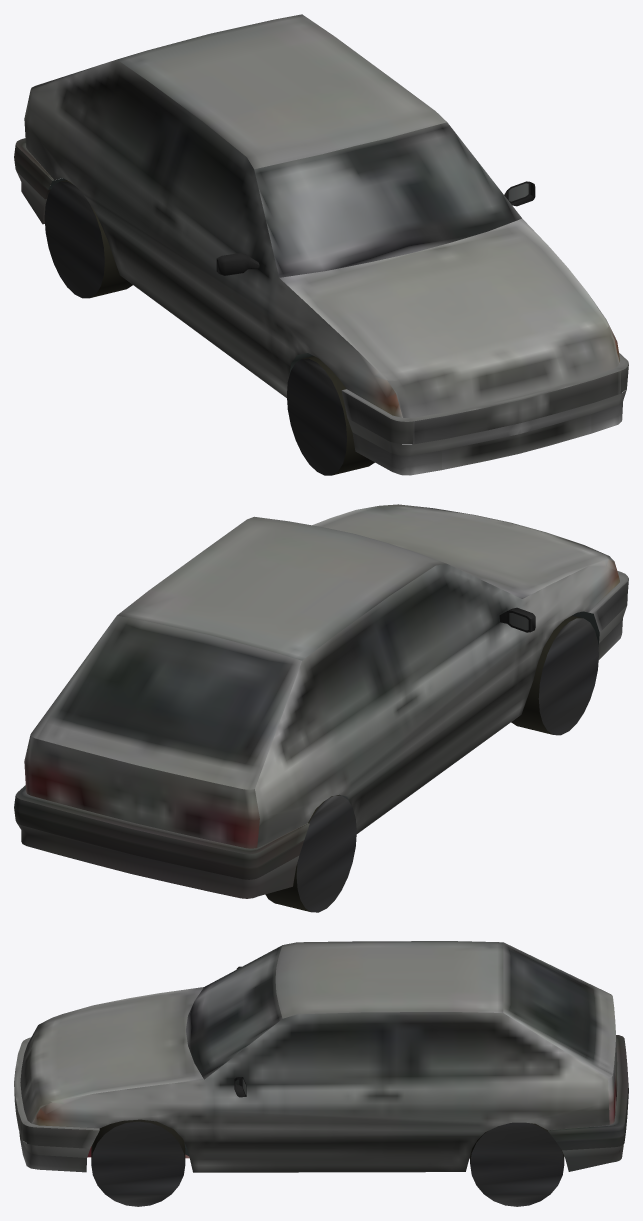
Rendered from n_car06.glb.
The picture shows the model from 3 angles, top to bottom: view 1: azimuth 30°, elevation 25°; view 2: azimuth 150°, elevation 25°; view 3: azimuth 270°, elevation 25°; orthographic projection. The views are drawn at different scales.
Visible parts, largest first — view 1: Car_g2_0, wheel_fr, wheel_rr; view 2: Car_g2_0, wheel_fr, wheel_rr; view 3: Car_g2_0, wheel_fl, wheel_rl.
Boxes of the visible parts, box(x1,y1,x2,y2) form: Car_g2_0: box(14, 14, 628, 475); wheel_fr: box(287, 356, 374, 475); wheel_rr: box(44, 180, 132, 298); Car_g2_0: box(14, 504, 628, 898); wheel_fr: box(511, 615, 598, 735); wheel_rr: box(265, 795, 356, 912); Car_g2_0: box(14, 941, 628, 1172); wheel_fl: box(91, 1119, 185, 1206); wheel_rl: box(470, 1122, 564, 1206).
Size of the model in its own units: 1.83 by 1.32 by 3.95.
2 materials, 1 textured.
